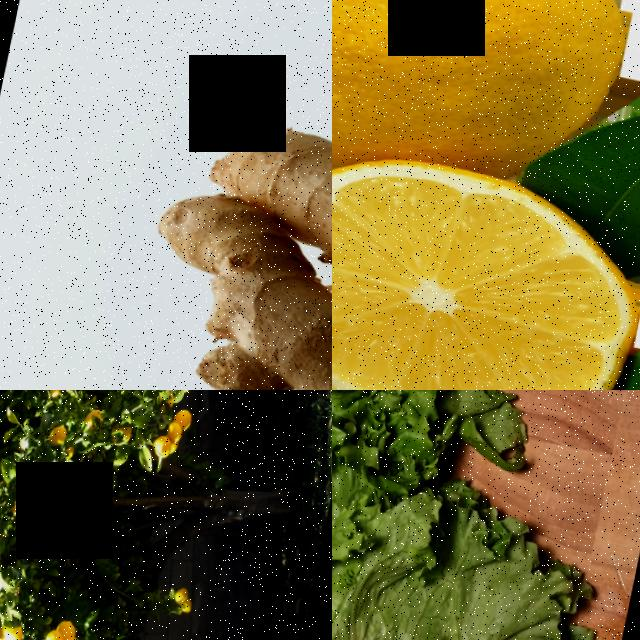ginger: (101, 83, 332, 390)
lemon: (332, 150, 640, 390), (332, 0, 639, 193), (151, 429, 176, 456), (172, 402, 196, 426), (43, 623, 69, 640)
lettuce: (332, 390, 640, 640)
